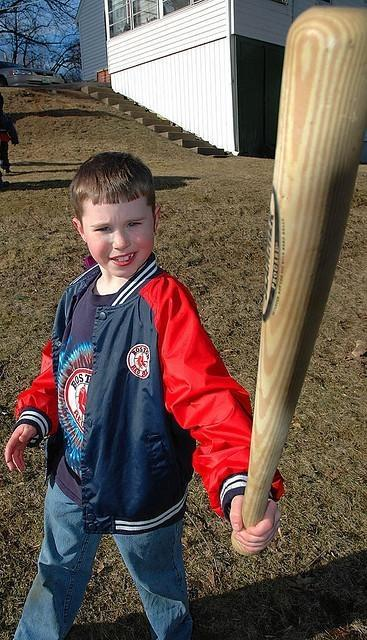car: (0, 60, 65, 86)
